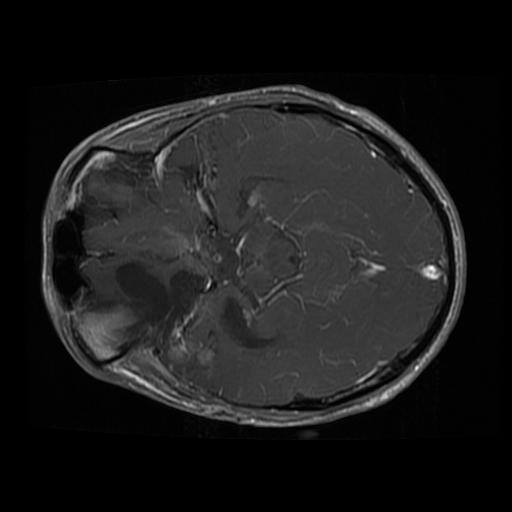glioma: (75, 254, 216, 372)
